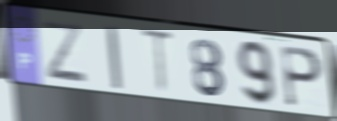8: (189, 37, 226, 99)
9: (234, 40, 279, 108)
I: (103, 24, 125, 92)
P: (279, 44, 325, 111)
T: (139, 26, 178, 98)
Z: (40, 19, 90, 86)
